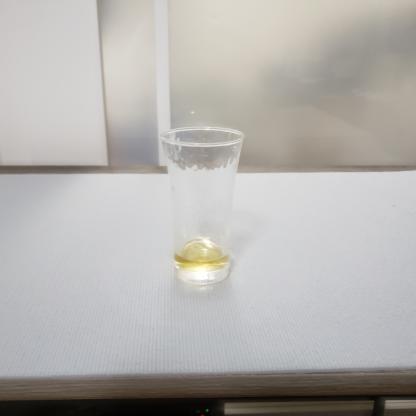glass: (154, 117, 269, 295)
